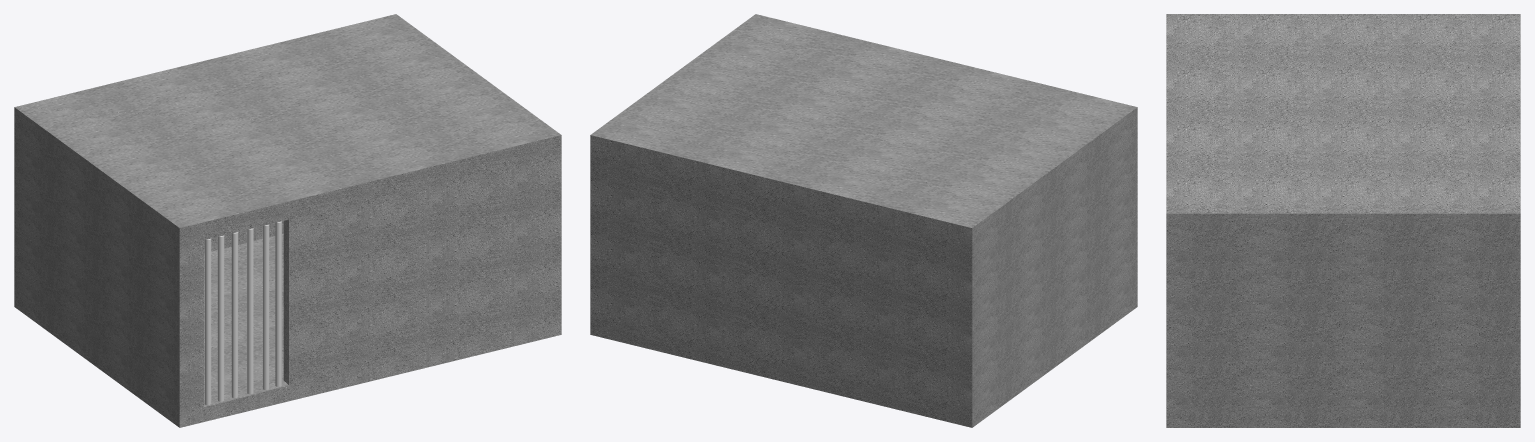
Rendered from cell.dae.
3 views of the same model, side by side, from view 1: azimuth 30°, elevation 25°; view 2: azimuth 150°, elevation 25°; view 3: azimuth 270°, elevation 25° (orthographic). The views are drawn at different scales.
Visible parts, largest first — view 1: Cube, Cylinder_001, Cylinder, Cylinder_002, Cylinder_004, Cylinder_003, Cylinder_005; view 2: Cube; view 3: Cube.
Boxes of the visible parts, left/top/right/bottom form: Cube: left=14, top=14, right=561, bottom=427; Cylinder_001: left=217, top=235, right=224, bottom=401; Cylinder: left=204, top=238, right=211, bottom=404; Cylinder_002: left=231, top=232, right=238, bottom=398; Cylinder_004: left=262, top=224, right=269, bottom=389; Cylinder_003: left=247, top=228, right=253, bottom=393; Cylinder_005: left=275, top=221, right=281, bottom=386; Cube: left=590, top=14, right=1137, bottom=427; Cube: left=1166, top=14, right=1520, bottom=427.
Size of the model in its own units: 4 by 3 by 2.
1 material, 1 textured.
